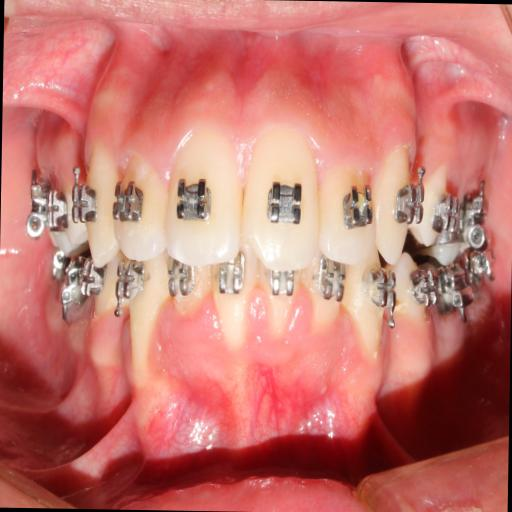correct_brace: (263, 177, 307, 231), (172, 174, 214, 221), (342, 178, 374, 234), (112, 178, 146, 230), (395, 178, 429, 224), (70, 180, 98, 228)
incorrect_brace: (318, 153, 381, 274), (113, 153, 168, 264)
